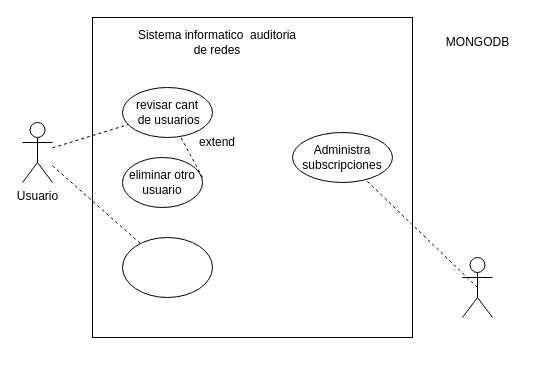
This 540x371 diagram has some shape labels left out. Each missing label, with the centre of its shape:
Administrador: (x=477, y=287)
crear lista de usuarios: (x=167, y=267)
